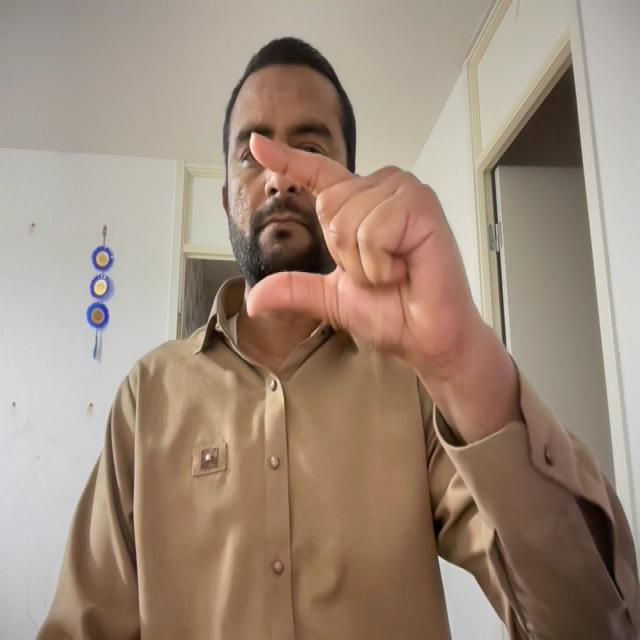No: (224, 116, 506, 361)
